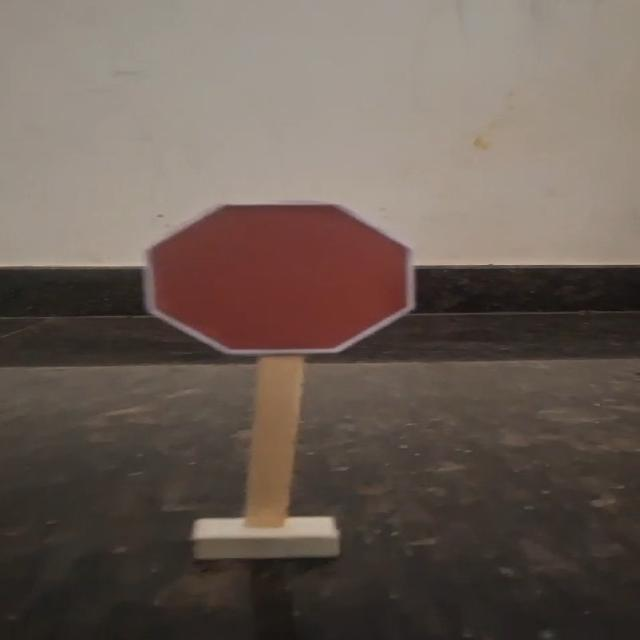Stop: (120, 196, 452, 370)
